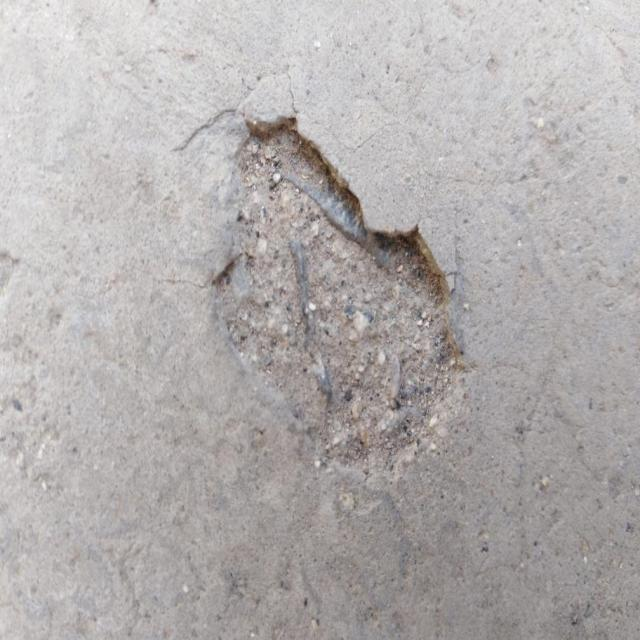concrete spalling: (204, 116, 472, 492)
diagonal crack: (169, 107, 235, 152)
horizontal crack: (309, 118, 401, 154), (136, 267, 210, 288)
vertical crack: (285, 64, 299, 114)
